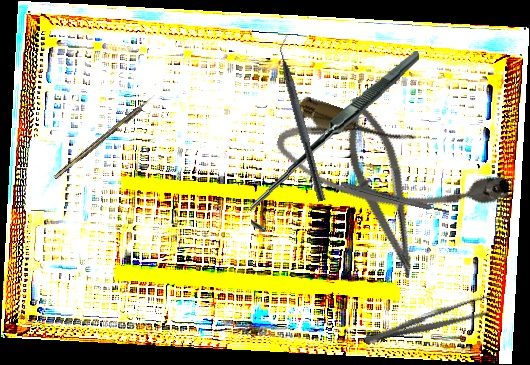Cannula: (268, 91, 518, 245)
Chopper: (271, 33, 337, 202)
Dressing Forceps: (361, 290, 500, 352)
Hook Surgical: (242, 50, 428, 233), (52, 93, 158, 181)
Micro Scissor: (328, 90, 439, 284)
Scalpel Handle: (340, 180, 450, 216)
